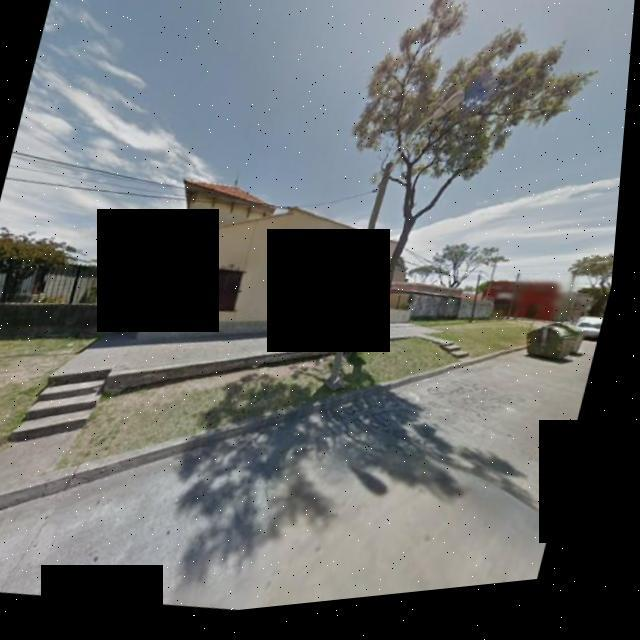bin: (522, 317, 604, 388)
